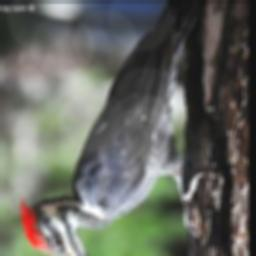Woodpecker: (19, 4, 204, 256)
